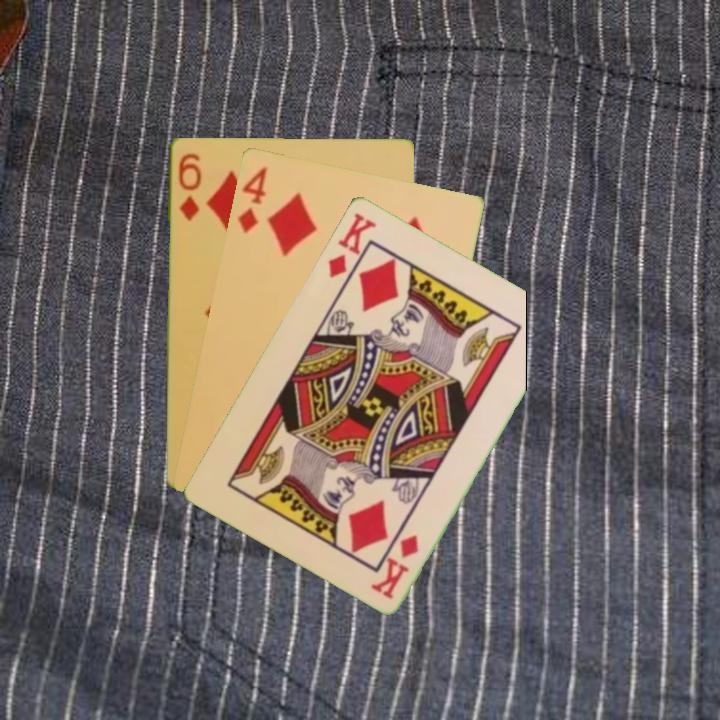4d: (234, 161, 269, 236)
6d: (175, 149, 204, 223)
Kd: (324, 208, 380, 280), (368, 530, 422, 601)
